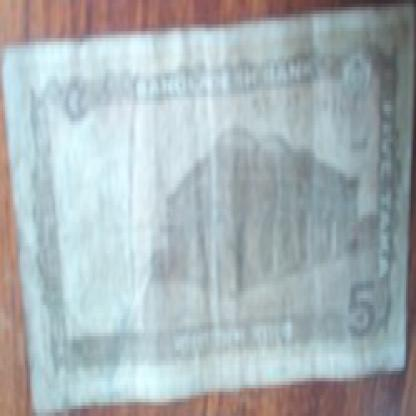Five Taka: (53, 69, 100, 149), (343, 270, 381, 347)
